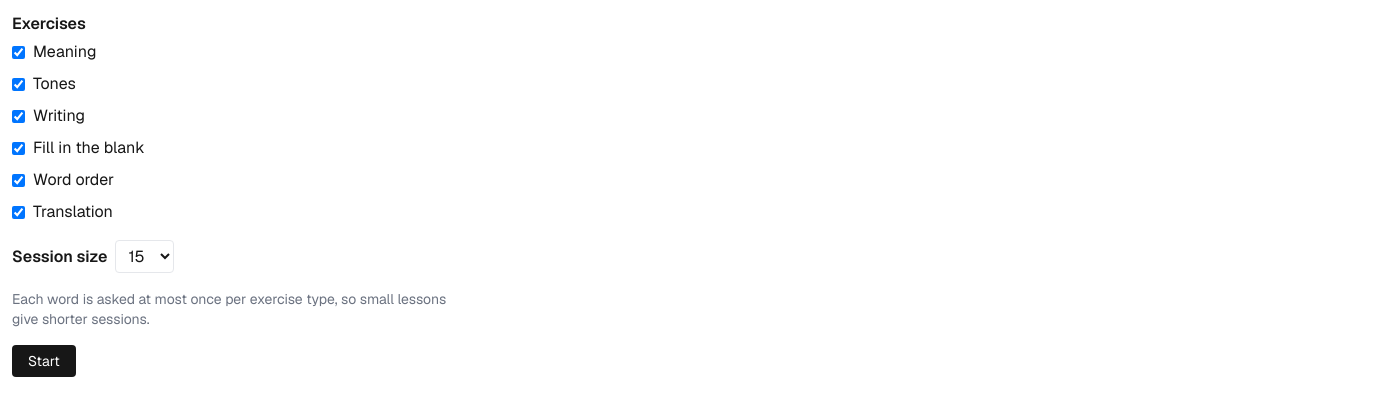
Test case: PracticePlayer › starts a session with the chosen types and size
Click the checkbox labelled "Tones". click: [18, 84]
box: top-left (12, 78), bottom-right (25, 90)
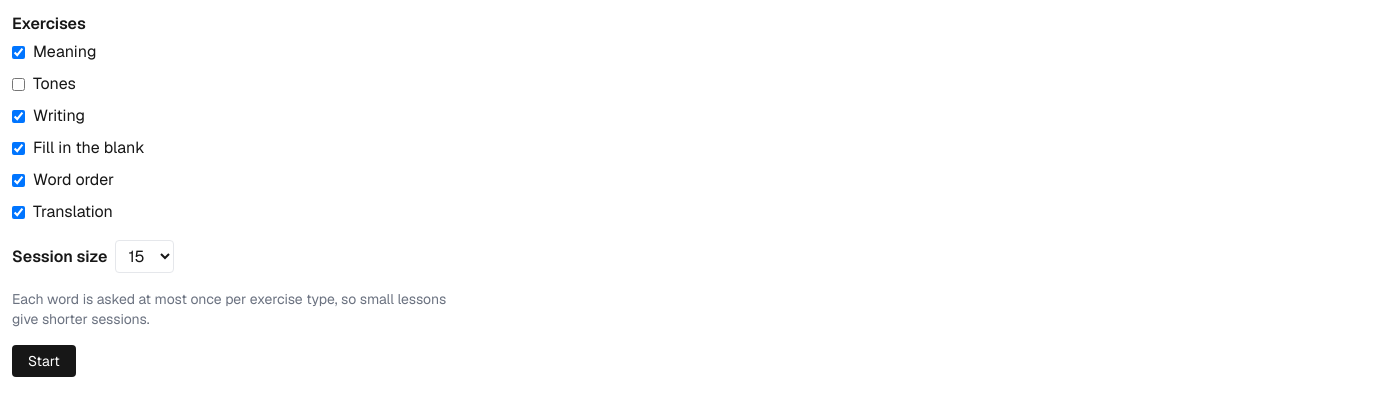
Select "5" in the dropdown labelled "Session size". click: [145, 256]
box: top-left (115, 240), bottom-right (174, 273)
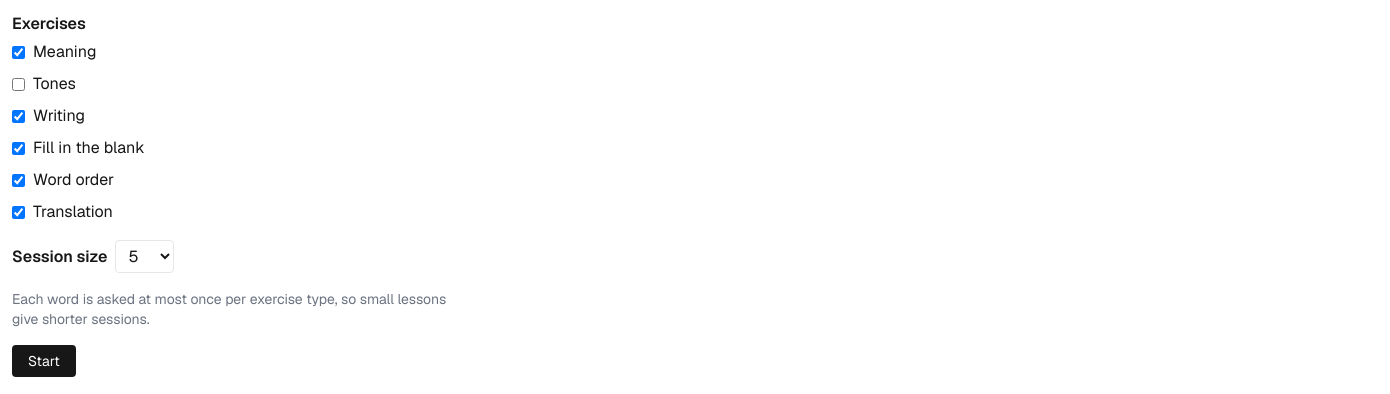
Click the button "Start". click: [44, 361]
box: top-left (12, 345), bottom-right (76, 377)
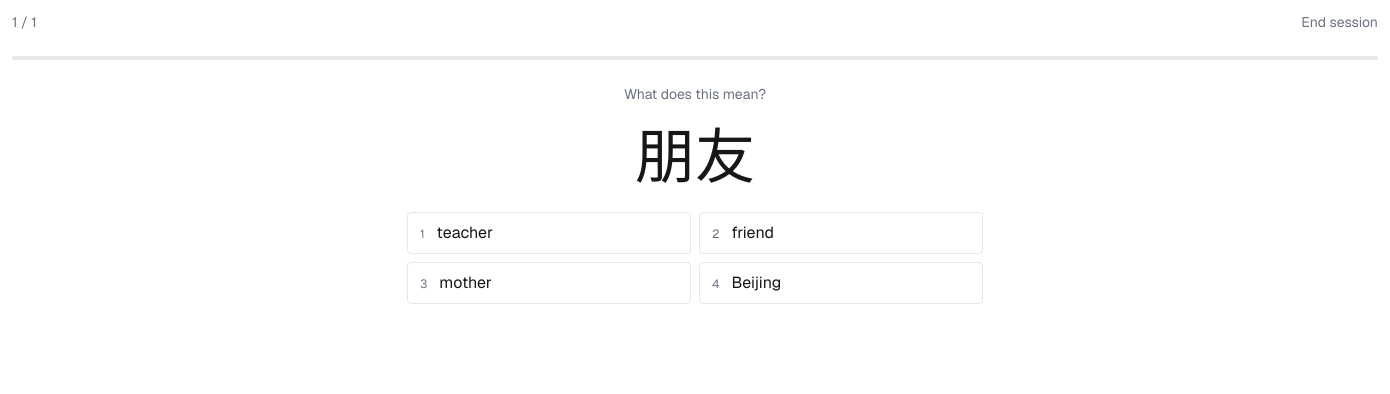
expect the text "朋友" is shown: met, box top-left (635, 128), bottom-right (755, 188)
